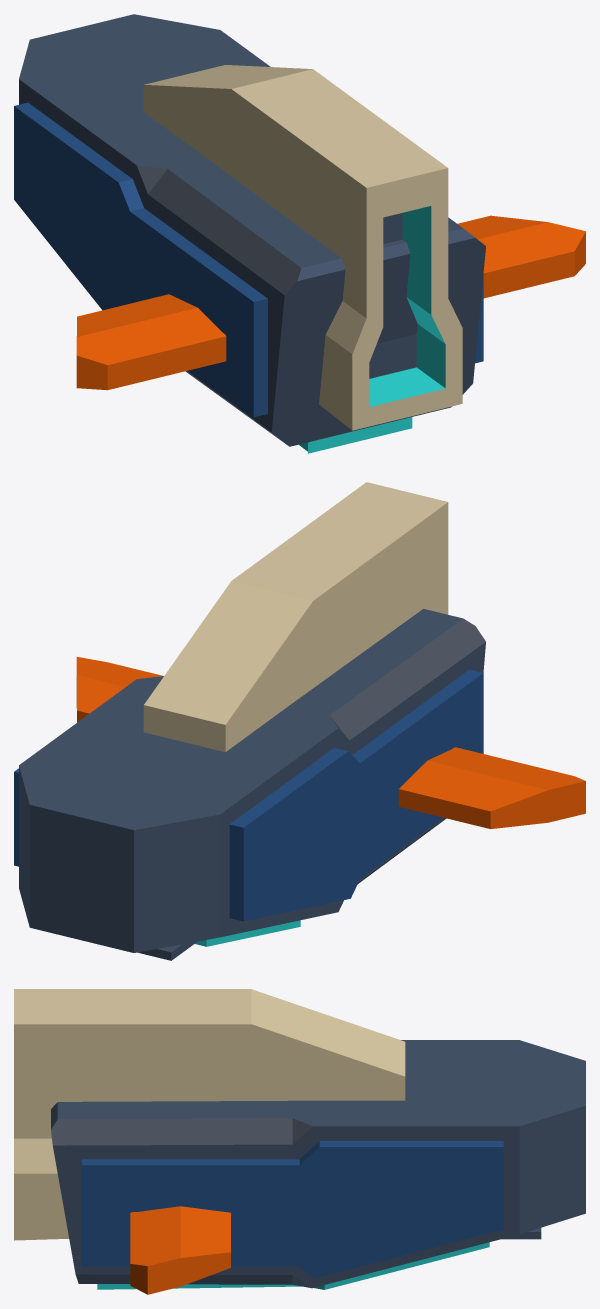
The picture shows the model from 3 angles, top to bottom: view 1: azimuth 30°, elevation 25°; view 2: azimuth 150°, elevation 25°; view 3: azimuth 270°, elevation 25°; orthographic projection. The views are drawn at different scales.
Visible parts, largest first — view 1: 立方体.043; view 2: 立方体.043; view 3: 立方体.043.
Part boxes in pixels (x1=…): 立方体.043: x1=14, y1=14, x2=585, y2=453; 立方体.043: x1=14, y1=482, x2=585, y2=960; 立方体.043: x1=14, y1=989, x2=585, y2=1294.
Size of the model in its own units: 143 by 80.08 by 159.
